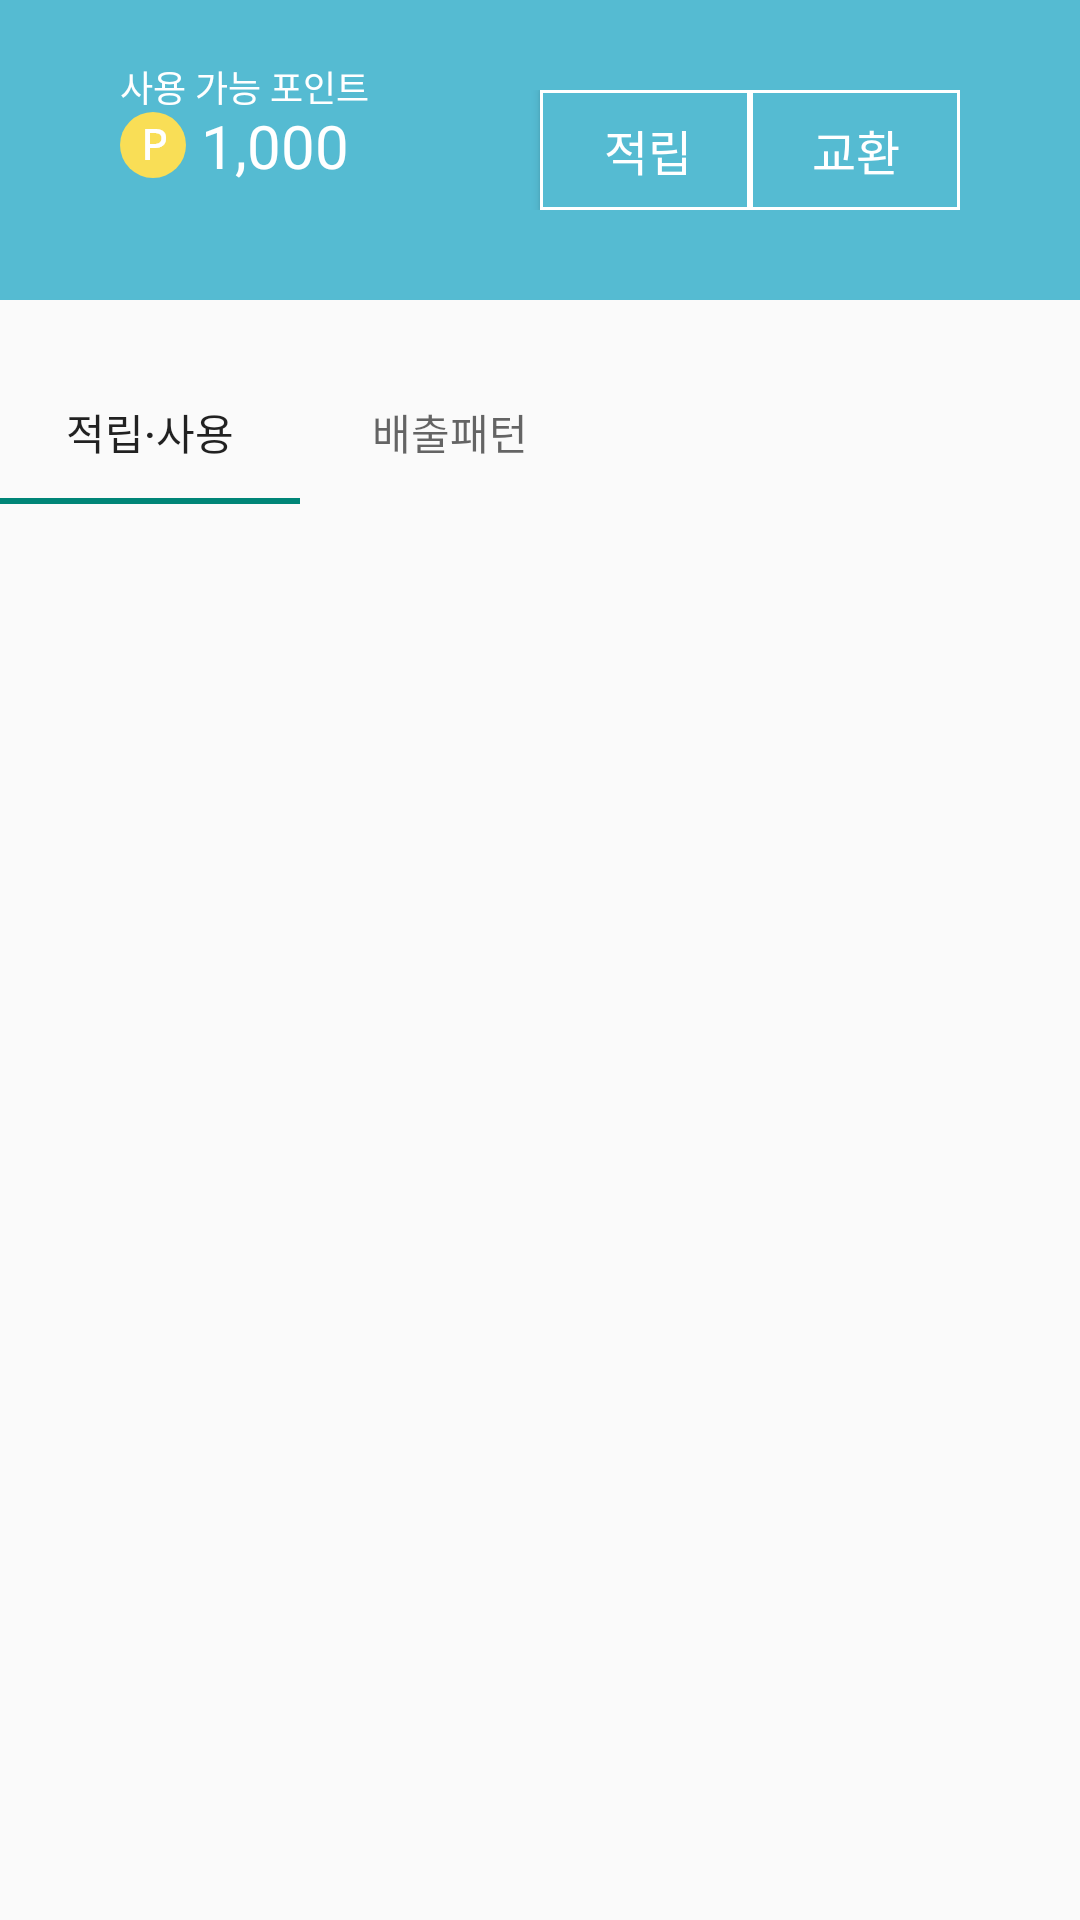

Icons on this 1080px x 1920px Android screen, each with the point to tap as (x=x, y=y):
point: (x=153, y=145)
